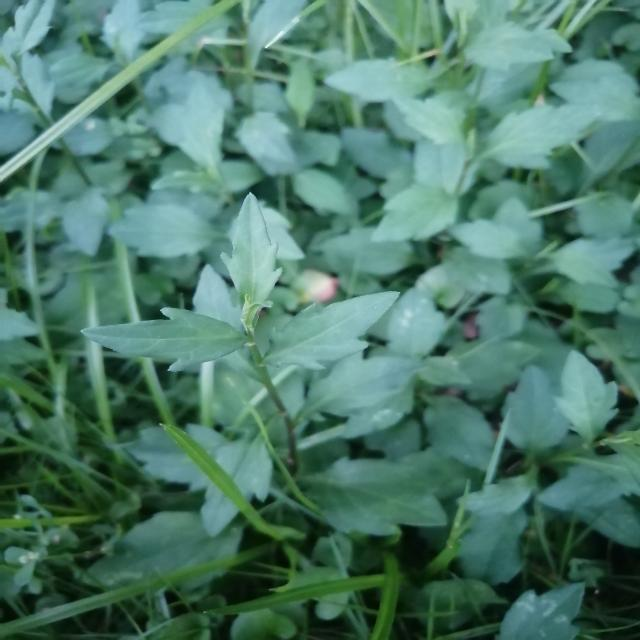Indian aster: (96, 209, 442, 526)
